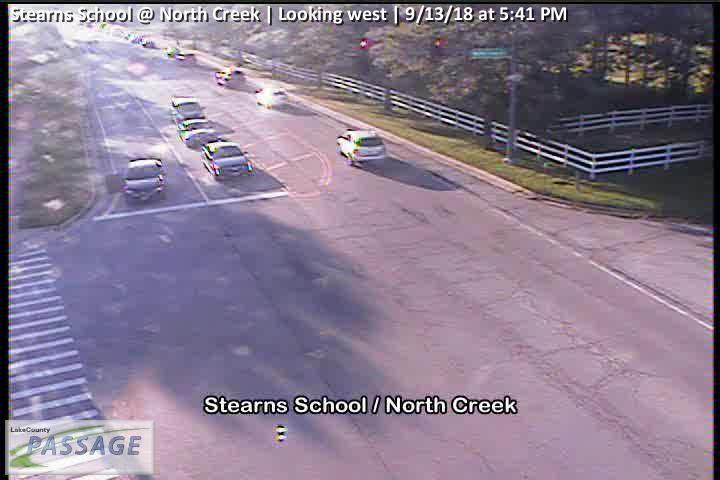SUV: (337, 128, 386, 164), (170, 95, 206, 125), (255, 88, 289, 109), (214, 69, 245, 87)
Sedan: (201, 141, 254, 180), (123, 159, 167, 201), (177, 117, 217, 148)
